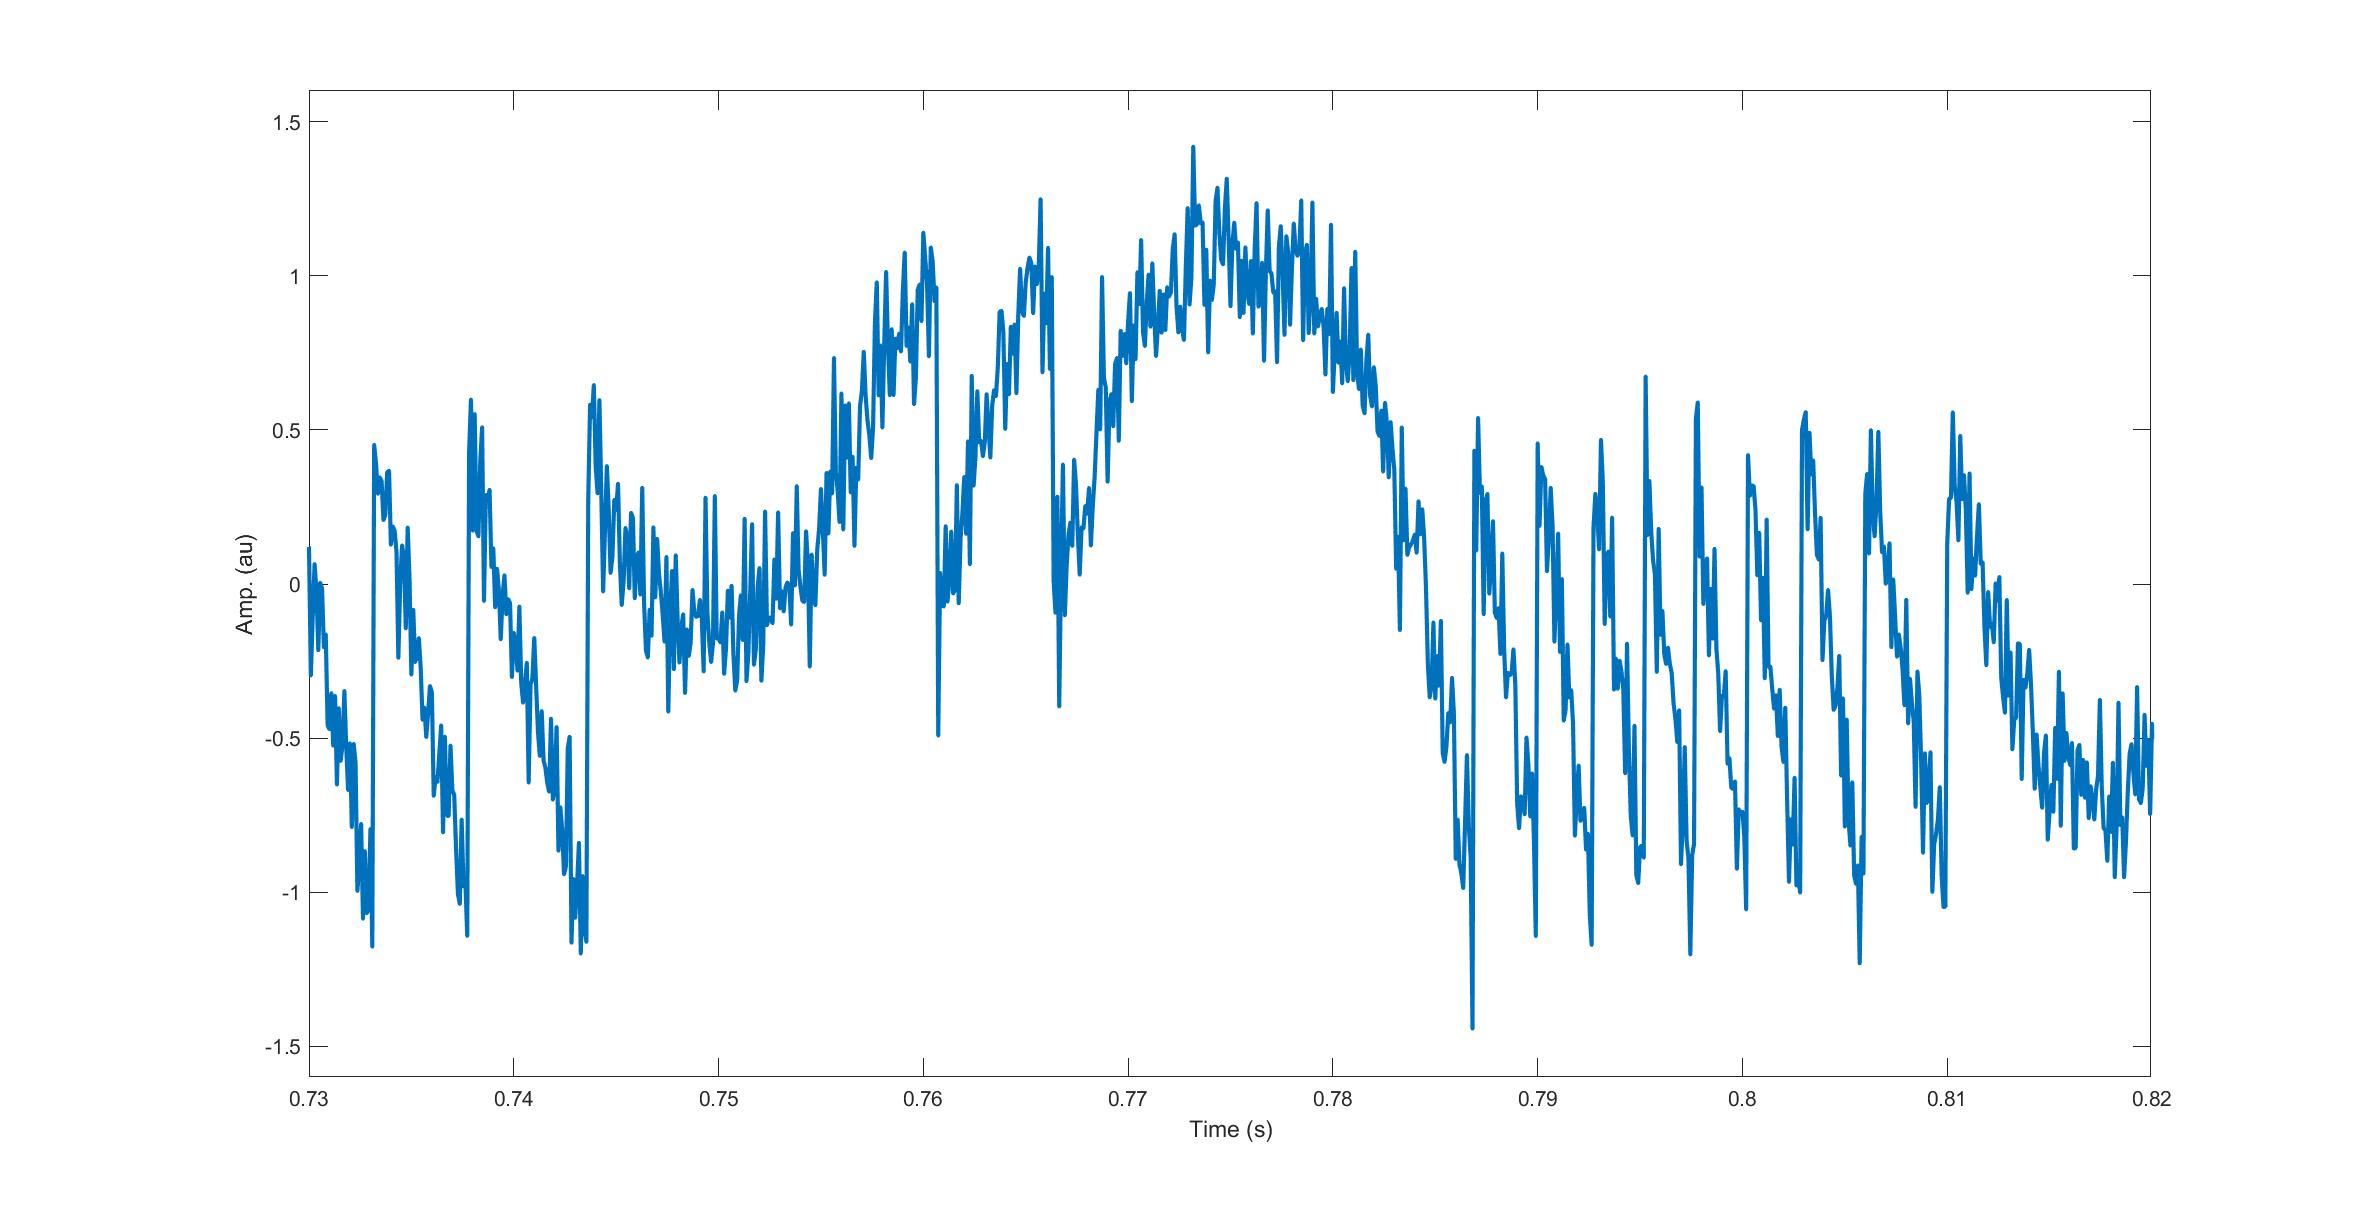negative_fringe: (454, 375, 569, 952), (1938, 390, 2048, 914), (361, 414, 452, 968), (576, 377, 659, 955), (1849, 421, 1927, 972), (1463, 406, 1517, 1043), (1789, 403, 1850, 891), (1684, 386, 1733, 958), (1525, 432, 1576, 945), (1633, 367, 1680, 897), (1582, 418, 1628, 948), (1735, 438, 1784, 895)
positive_fringe: (812, 221, 952, 742), (958, 184, 1071, 725)
